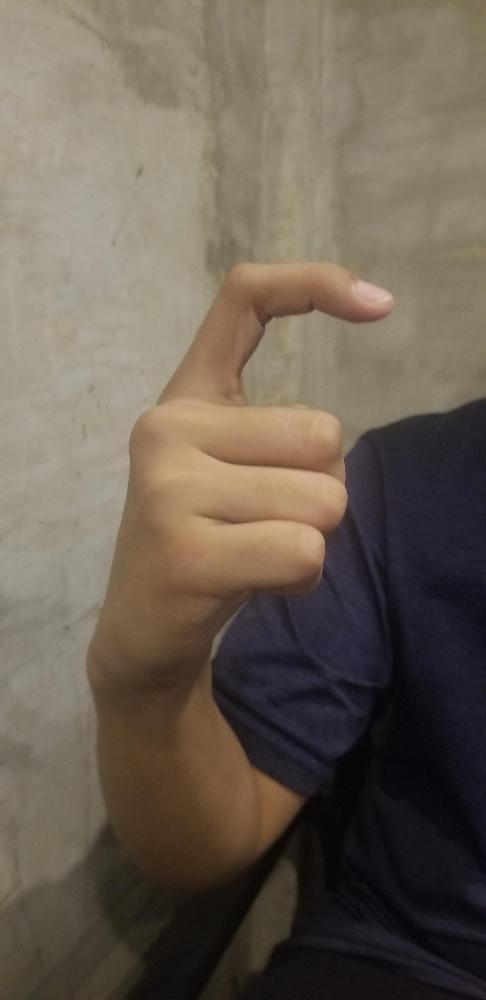x: (104, 254, 393, 654)
